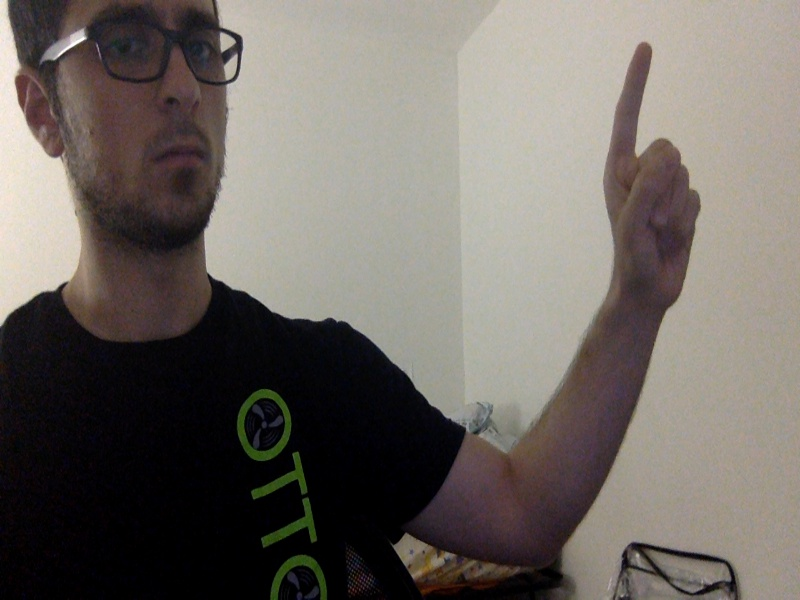1-hand: (600, 41, 706, 309)
